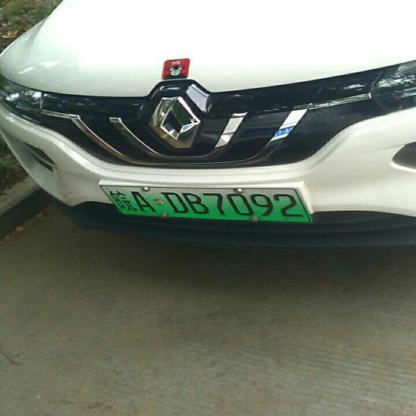lp: (99, 186, 312, 222)
